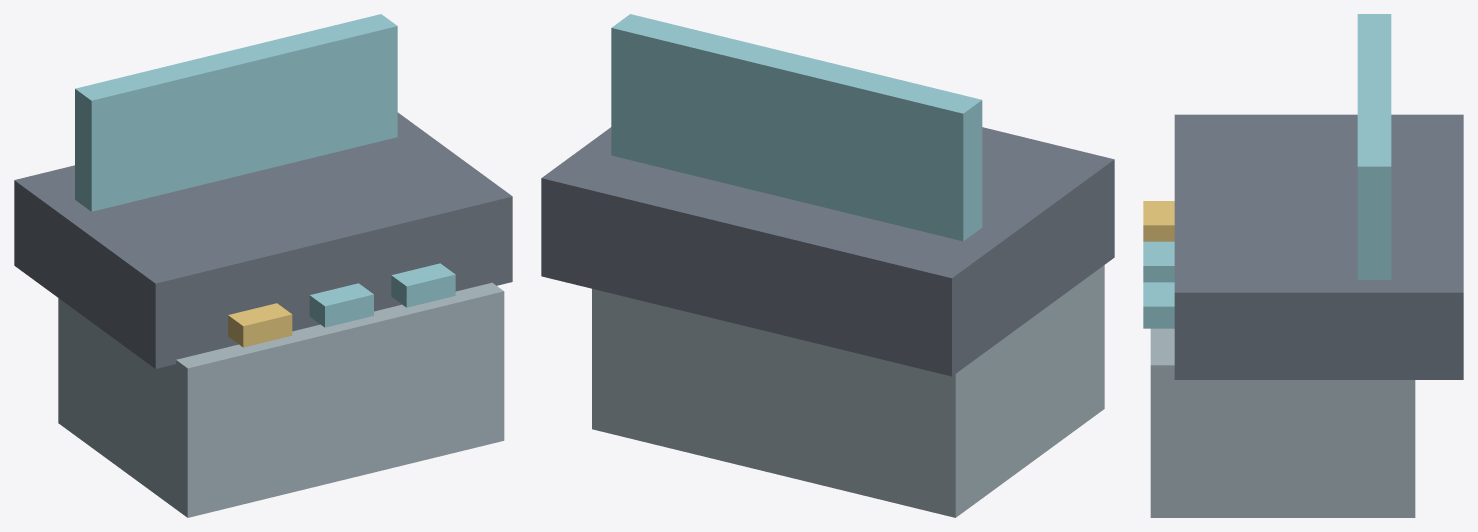
Rendered from scifi-command-console.glb.
3 views of the same model, side by side, from view 1: azimuth 30°, elevation 25°; view 2: azimuth 150°, elevation 25°; view 3: azimuth 270°, elevation 25° (orthographic). The views are drawn at different scales.
Parts seen in each view (by area): view 1: Console de commandement; view 2: Console de commandement; view 3: Console de commandement.
Part boxes in pixels (x1=…): Console de commandement: x1=14, y1=14, x2=512, y2=517; Console de commandement: x1=541, y1=14, x2=1114, y2=517; Console de commandement: x1=1143, y1=14, x2=1463, y2=517.
Bounding box in the file's own units: 1.75 × 1.6 × 1.33.
